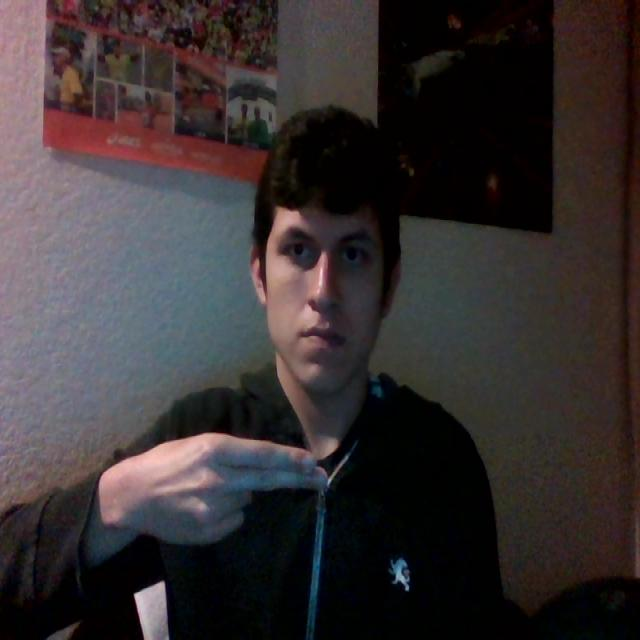H: (86, 409, 345, 571)
